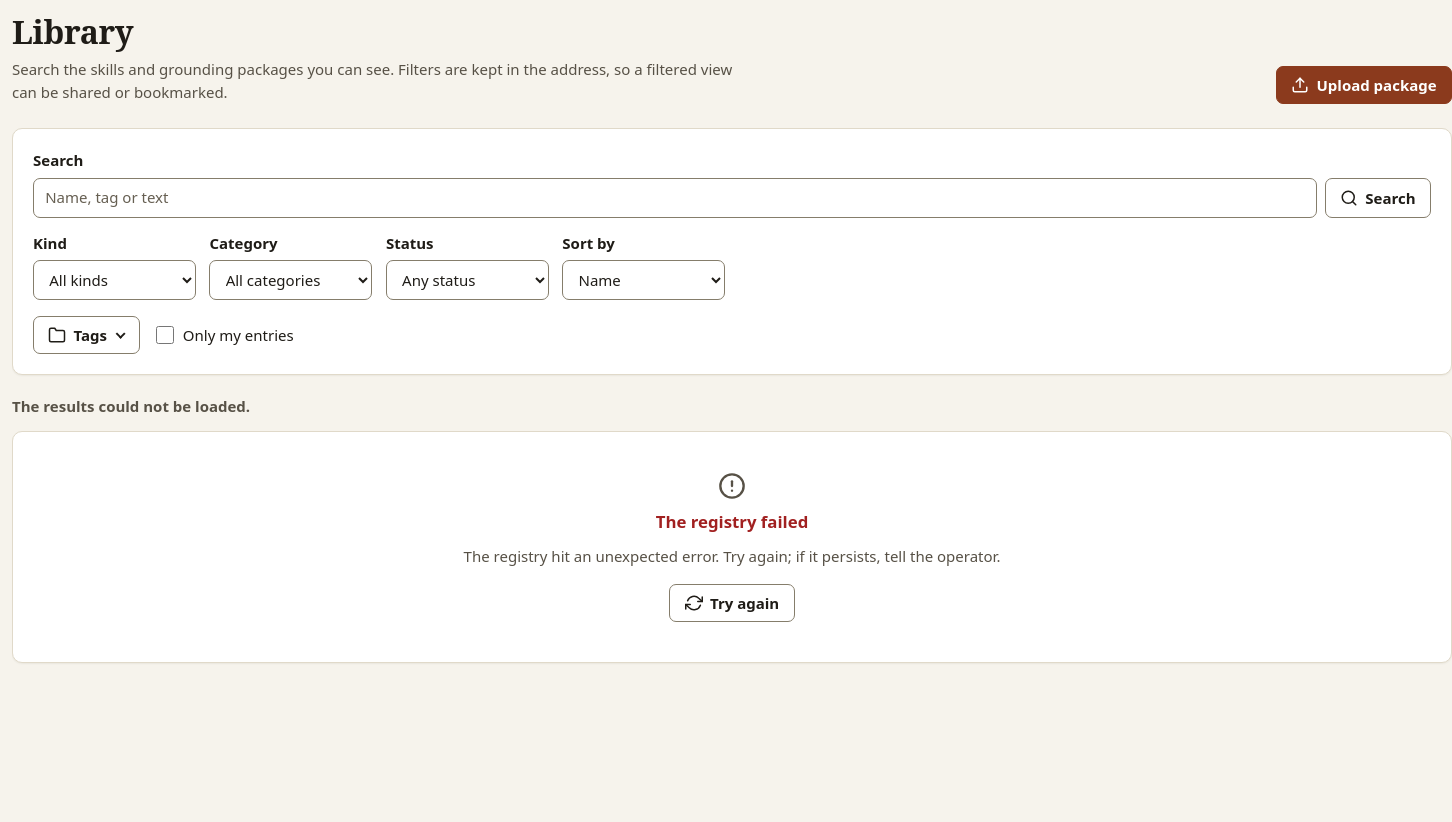
Test case: Library: listing › shows an error with a retry
What coordinates should you click on to do the following:
click the button "Try again"
I would click on:
 (732, 603)
Its box is [669, 584, 795, 622].
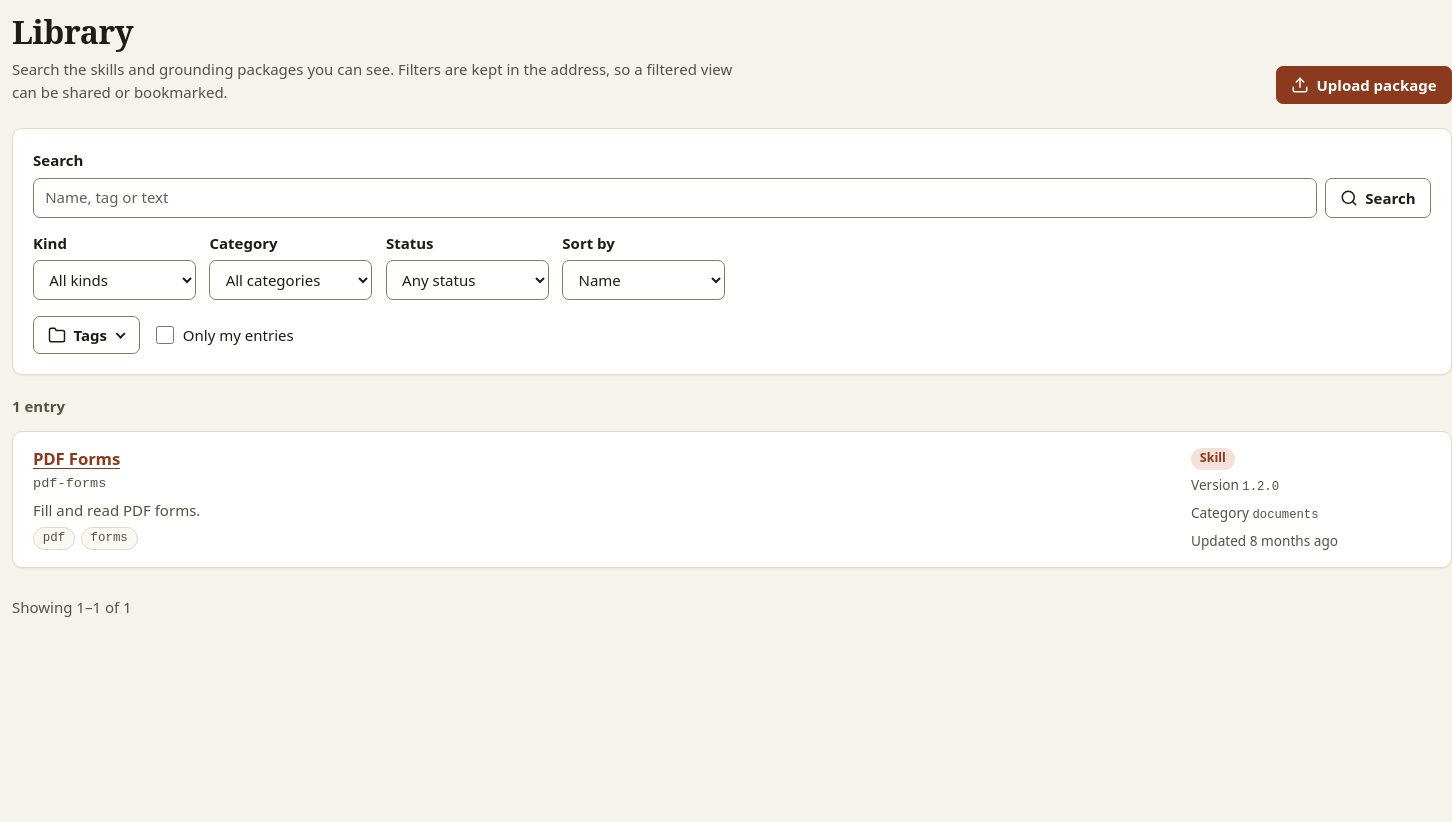
Check: the link "PDF Forms" is shown, box [33, 447, 120, 470]
